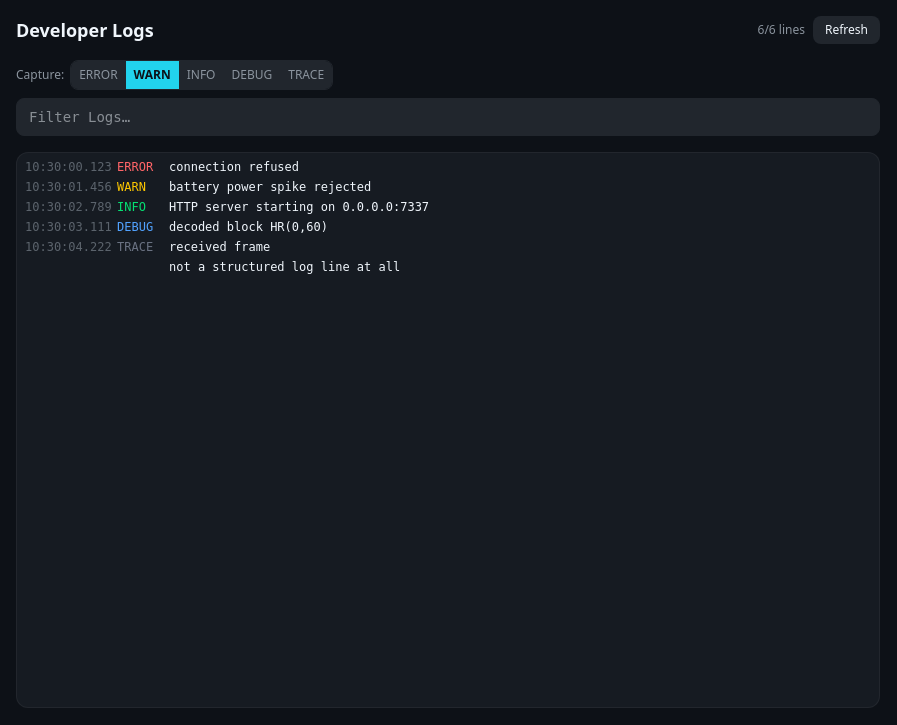
Test: <LogsPage/> › Clear button resets the filter
Expected: the text "connection refused" is shown, [169,157,299,177]
Type "spike" into the field with placeholder "Filter Logs…" at point(448, 117), box [16,98,880,136]
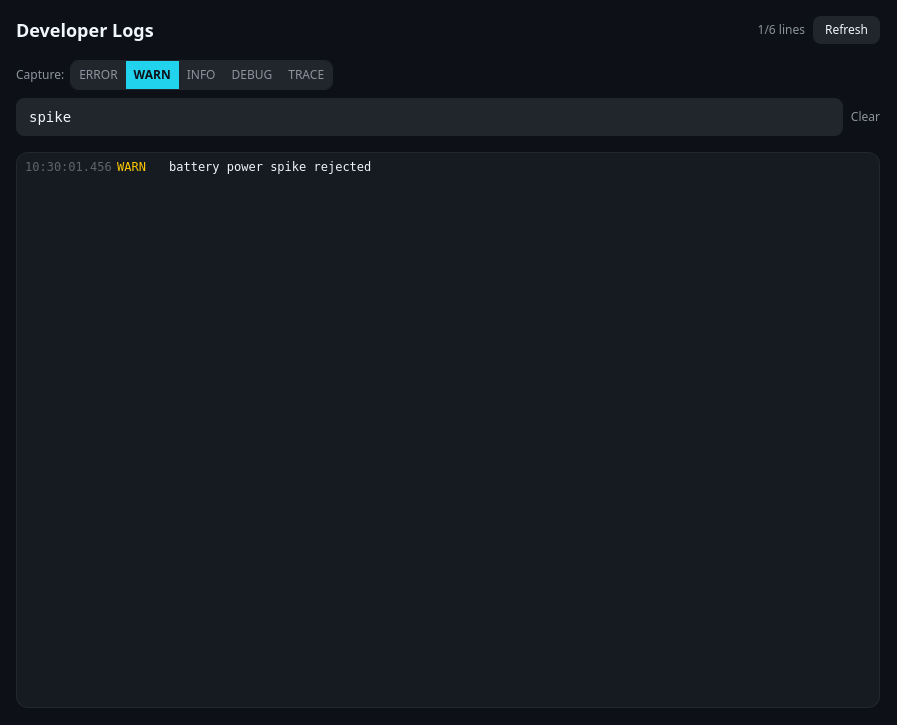
Now the text "connection refused" is gone
Click the button "Clear" at point(865, 117), box [851,109,880,125]
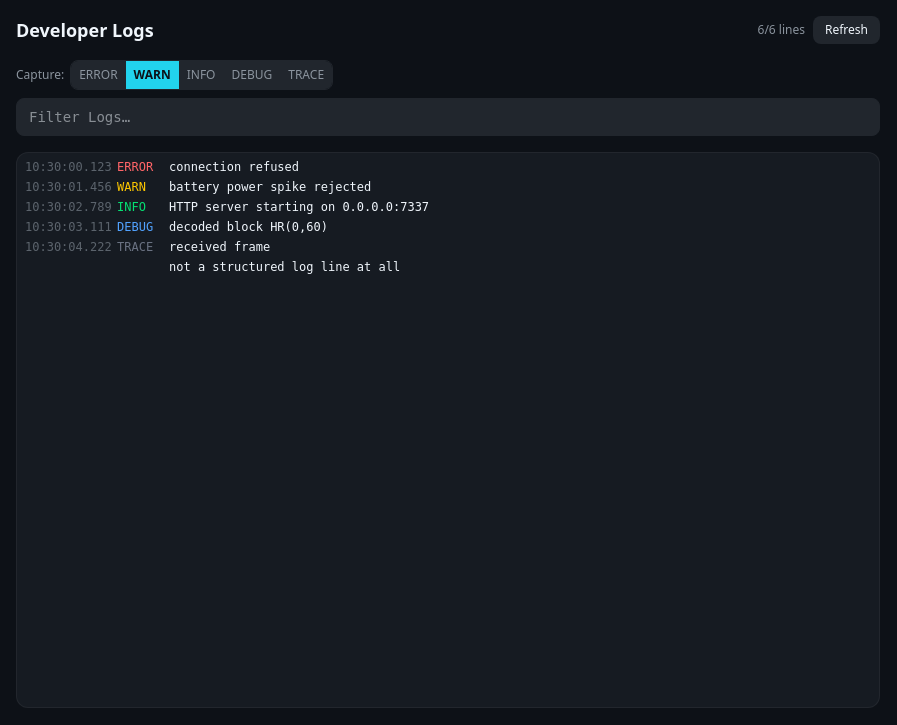
Now the text "connection refused" is shown, box [169,157,299,177]
